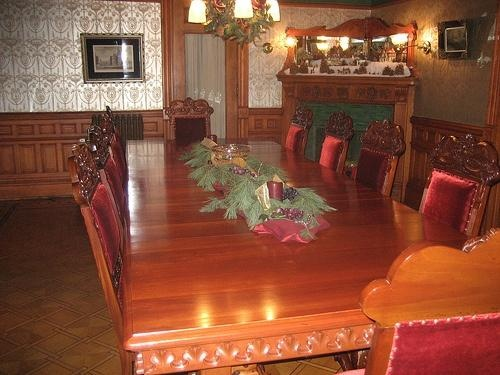chair: (357, 219, 500, 375), (62, 138, 132, 324), (419, 131, 495, 237), (353, 116, 408, 201), (162, 94, 218, 146), (317, 109, 357, 177), (283, 104, 315, 157)
diningtable: (124, 127, 500, 375)
